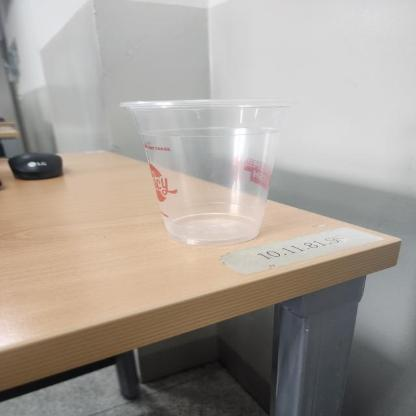Plastic Cup: (117, 100, 301, 247)
